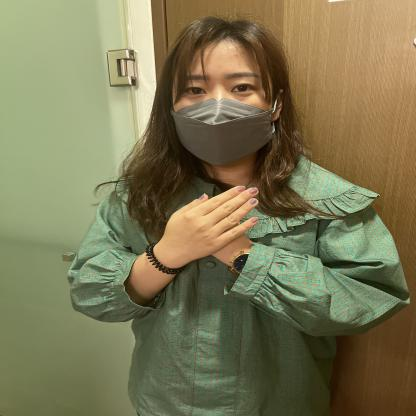Grieve: (79, 146, 346, 324)
